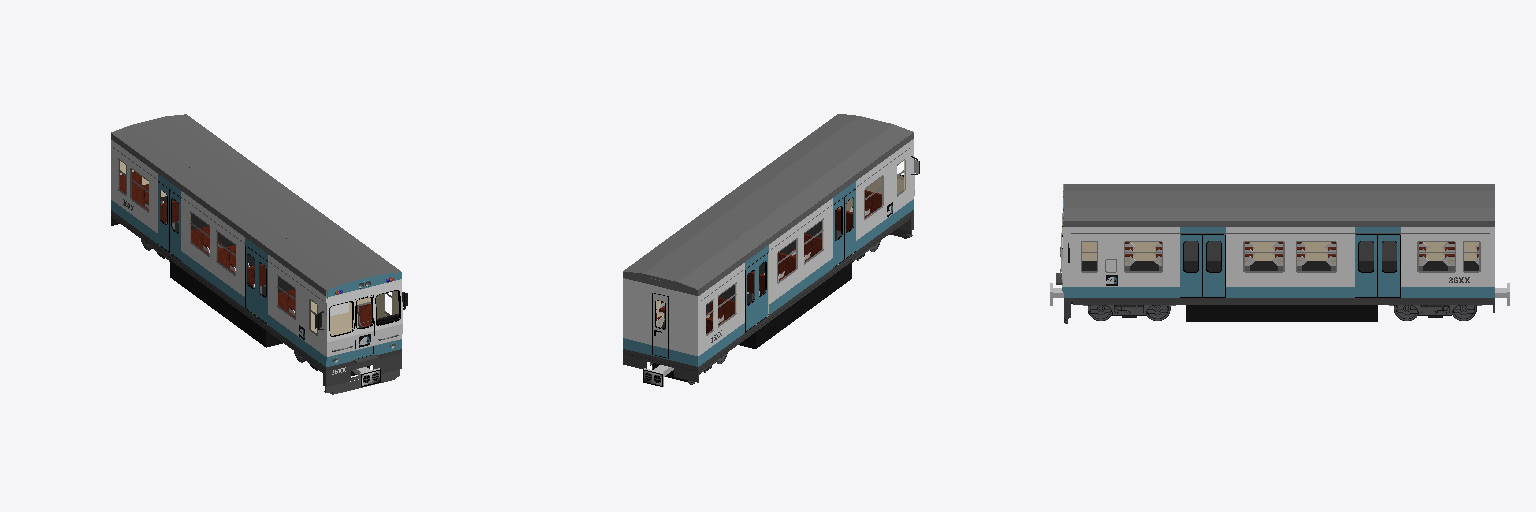
3 renders of one model, left to right at view 1: azimuth 30°, elevation 25°; view 2: azimuth 150°, elevation 25°; view 3: azimuth 270°, elevation 25°, orthographic.
Visible parts, largest first — view 1: body, body_inside, bogies, door_RF, door_RB; view 2: body, body_inside, bogies, door_RF, door_RB; view 3: body, bogies, body_inside, door_LB, door_LF, door_RB_inside, door_RF_inside.
Boxes of the visible parts, x1=… form: body: x1=111, y1=114, x2=407, y2=394; body_inside: x1=111, y1=160, x2=400, y2=370; bogies: x1=141, y1=239, x2=380, y2=386; door_RF: x1=169, y1=189, x2=267, y2=323; door_RB: x1=158, y1=181, x2=256, y2=315; body: x1=623, y1=114, x2=919, y2=382; body_inside: x1=656, y1=160, x2=904, y2=334; bogies: x1=643, y1=241, x2=880, y2=386; door_RF: x1=757, y1=189, x2=855, y2=323; door_RB: x1=745, y1=198, x2=843, y2=332; body: x1=1060, y1=184, x2=1494, y2=323; bogies: x1=1050, y1=273, x2=1509, y2=321; body_inside: x1=1062, y1=184, x2=1478, y2=271; door_LB: x1=1180, y1=234, x2=1377, y2=297; door_LF: x1=1203, y1=234, x2=1400, y2=297; door_RB_inside: x1=1207, y1=241, x2=1396, y2=260; door_RF_inside: x1=1184, y1=241, x2=1373, y2=260.
Size of the model in its own units: 2.88 by 3.39 by 12.43.
Materials: 46 (42 with a texture image).